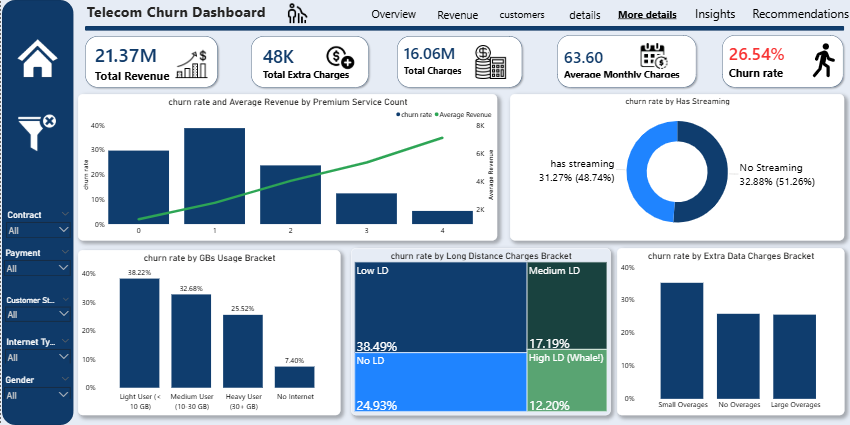

This screenshot's page, from the dashboard's own definition file:
{"tool":"powerbi","page":{"name":"More details ","canvas":[2500,1250],"ordinal":5},"visuals":[{"type":"shape","box":[1627.8,94.4,427.8,172.2],"z":0},{"type":"shape","box":[2.6,0,210.5,1250],"z":1000},{"type":"shape","box":[727.8,97.2,363.9,169.4],"z":2000},{"type":"shape","box":[247.2,77.8,2233.3,13.9],"z":3000},{"type":"shape","box":[238.9,97.2,408.3,169.4],"z":4000},{"type":"clusteredColumnChart","fields":{"Category":["fact_telecom_customer_churn.Extra Data Charges Bracket"],"Y":["_measures.churn_rate"]},"box":[1811.1,730.6,669.4,491.7],"z":5000},{"type":"shape","box":[2111.1,94.4,375,172.2],"z":6000},{"type":"shape","box":[1155.6,97.2,386.1,169.4],"z":7000},{"type":"clusteredColumnChart","fields":{"Y":["_measures.churn_rate"],"Category":["fact_telecom_customer_churn.GBs Usage Bracket"]},"box":[227.8,736.1,772.2,486.1],"z":8000},{"type":"lineClusteredColumnComboChart","fields":{"Category":["dim_internet_service.Premium Service Count"],"Y":["_measures.churn_rate"],"Y2":["_measures.Average Revenue"]},"box":[227.8,277.8,1233.3,430.6],"z":9000},{"type":"donutChart","fields":{"Category":["dim_internet_service.Has Streaming"],"Y":["_measures.churn_rate"]},"box":[1497.2,277.8,983.3,430.6],"z":10000},{"type":"treemap","fields":{"Group":["fact_telecom_customer_churn.LD Charges Bracket"],"Values":["_measures.churn_rate"]},"box":[1030.6,730.6,763.9,491.7],"z":11000},{"type":"cardVisual","fields":{"Data":["_measures.Total Extra Charges"]},"box":[741.7,113.9,338.9,136.1],"z":12000},{"type":"cardVisual","fields":{"Data":["_measures.Total Charges"]},"box":[1155.6,111.1,252.8,125],"z":13000},{"type":"cardVisual","fields":{"Data":["_measures.Average Monthly Charges"]},"box":[1627.8,127.8,408.3,119.4],"z":14000},{"type":"textbox","box":[245.9,0,627,78.4],"z":15000},{"type":"image","box":[800,0,145.9,78.4],"z":16000},{"type":"image","box":[1841.2,126.5,158.8,76.5],"z":17000},{"type":"image","box":[941.7,125,113.9,86.1],"z":18000},{"type":"image","box":[1372.2,133.3,133.3,100],"z":19000},{"type":"slicer","fields":{"Values":["dim_customer.Customer Status"]},"box":[2.7,864.9,210.8,86.5],"z":20000},{"type":"slicer","fields":{"Values":["dim_internet_service.Internet Type"]},"box":[2.7,986.5,210.8,83.8],"z":21000},{"type":"slicer","fields":{"Values":["dim_contract.Payment Method"]},"box":[0,724.3,213.5,97.3],"z":22000},{"type":"slicer","fields":{"Values":["dim_contract.Contract"]},"box":[5.4,610.8,208.1,97.3],"z":23000},{"type":"slicer","fields":{"Values":["dim_customer.Gender"]},"box":[0,1097.3,213.5,75.7],"z":24000},{"type":"actionButton","title":"Churn Overview","box":[1063.2,0,186.8,78.9],"z":25000},{"type":"actionButton","title":"Churn Overview","box":[1250,0,186.8,84.2],"z":26000},{"type":"actionButton","title":"Churn Overview","box":[1439.5,0,189.5,78.9],"z":27000},{"type":"actionButton","title":"Churn Overview","box":[1642.1,0,152.6,84.2],"z":28000},{"type":"actionButton","title":"Churn Overview","box":[1794.7,0,213.2,78.9],"z":29000},{"type":"actionButton","title":"Churn Overview","box":[2018.4,0,165.8,78.9],"z":30000},{"type":"actionButton","title":"Churn Overview","box":[2202.6,0,297.4,78.9],"z":31000},{"type":"cardVisual","fields":{"Data":["_measures.churn_rate"]},"box":[2111.1,91.7,288.9,175],"z":32000},{"type":"image","box":[2363.9,113.9,111.1,125],"z":33000},{"type":"cardVisual","fields":{"Data":["_measures.Total Revenue"]},"box":[247.1,88.2,294.1,188.2],"z":34000},{"type":"image","box":[488.9,136.1,144.4,108.3],"z":35000},{"type":"image","box":[40.5,110.8,132.4,118.9],"z":36000},{"type":"image","box":[21.6,335.1,170.3,110.8],"z":37000}]}

Visuals, with their boxes in screenshot pixels (x1, y1, x2, y2), scaled from the page's 2500x1250 canvas onto the 850x425 screenshot:
shape: (x1=553, y1=32, x2=699, y2=91)
shape: (x1=1, y1=0, x2=72, y2=424)
shape: (x1=247, y1=33, x2=371, y2=91)
shape: (x1=84, y1=26, x2=843, y2=31)
shape: (x1=81, y1=33, x2=220, y2=91)
clusteredColumnChart - fact_telecom_customer_churn.Extra Data Charges Bracket x _measures.churn_rate: (x1=616, y1=248, x2=843, y2=416)
shape: (x1=718, y1=32, x2=845, y2=91)
shape: (x1=393, y1=33, x2=524, y2=91)
clusteredColumnChart - _measures.churn_rate x fact_telecom_customer_churn.GBs Usage Bracket: (x1=77, y1=250, x2=340, y2=416)
lineClusteredColumnComboChart - dim_internet_service.Premium Service Count x _measures.churn_rate: (x1=77, y1=94, x2=497, y2=241)
donutChart - dim_internet_service.Has Streaming x _measures.churn_rate: (x1=509, y1=94, x2=843, y2=241)
treemap - fact_telecom_customer_churn.LD Charges Bracket x _measures.churn_rate: (x1=350, y1=248, x2=610, y2=416)
cardVisual - _measures.Total Extra Charges: (x1=252, y1=39, x2=367, y2=85)
cardVisual - _measures.Total Charges: (x1=393, y1=38, x2=479, y2=80)
cardVisual - _measures.Average Monthly Charges: (x1=553, y1=43, x2=692, y2=84)
textbox: (x1=84, y1=0, x2=297, y2=27)
image: (x1=272, y1=0, x2=322, y2=27)
image: (x1=626, y1=43, x2=680, y2=69)
image: (x1=320, y1=42, x2=359, y2=72)
image: (x1=467, y1=45, x2=512, y2=79)
slicer - dim_customer.Customer Status: (x1=1, y1=294, x2=73, y2=323)
slicer - dim_internet_service.Internet Type: (x1=1, y1=335, x2=73, y2=364)
slicer - dim_contract.Payment Method: (x1=0, y1=246, x2=73, y2=279)
slicer - dim_contract.Contract: (x1=2, y1=208, x2=73, y2=241)
slicer - dim_customer.Gender: (x1=0, y1=373, x2=73, y2=399)
"Churn Overview" actionButton: (x1=361, y1=0, x2=425, y2=27)
"Churn Overview" actionButton: (x1=425, y1=0, x2=489, y2=29)
"Churn Overview" actionButton: (x1=489, y1=0, x2=554, y2=27)
"Churn Overview" actionButton: (x1=558, y1=0, x2=610, y2=29)
"Churn Overview" actionButton: (x1=610, y1=0, x2=683, y2=27)
"Churn Overview" actionButton: (x1=686, y1=0, x2=743, y2=27)
"Churn Overview" actionButton: (x1=749, y1=0, x2=849, y2=27)
cardVisual - _measures.churn_rate: (x1=718, y1=31, x2=816, y2=91)
image: (x1=804, y1=39, x2=842, y2=81)
cardVisual - _measures.Total Revenue: (x1=84, y1=30, x2=184, y2=94)
image: (x1=166, y1=46, x2=215, y2=83)
image: (x1=14, y1=38, x2=59, y2=78)
image: (x1=7, y1=114, x2=65, y2=152)
